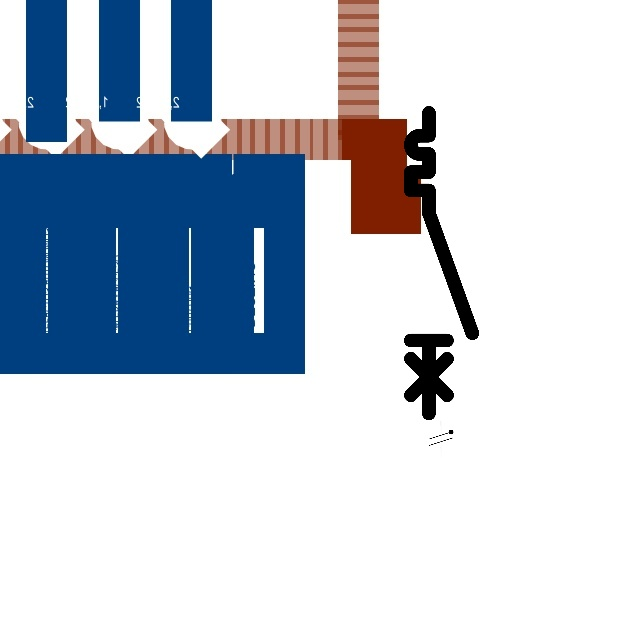interruptor_termomagnetico: (403, 105, 480, 421)
